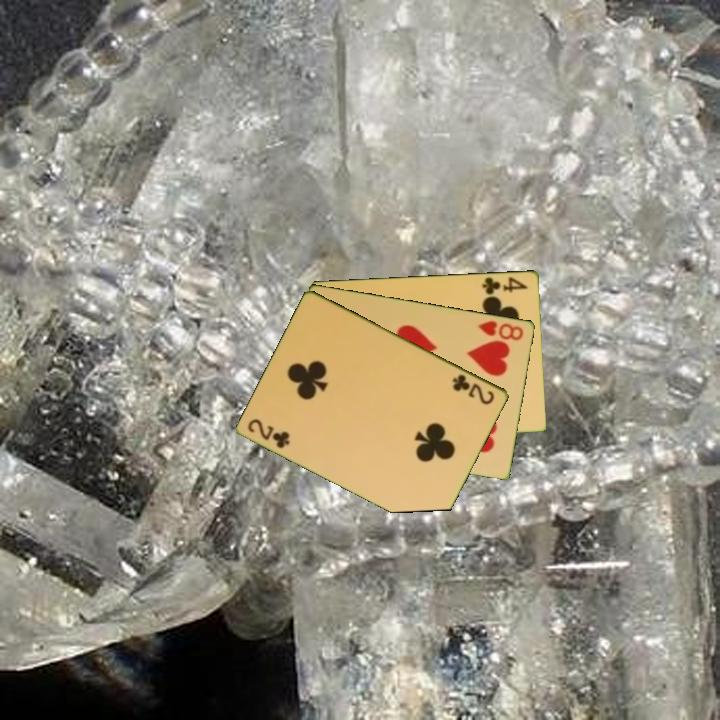2c: (449, 370, 498, 407), (244, 415, 293, 451)
4c: (479, 273, 530, 297)
8h: (475, 317, 527, 343)
